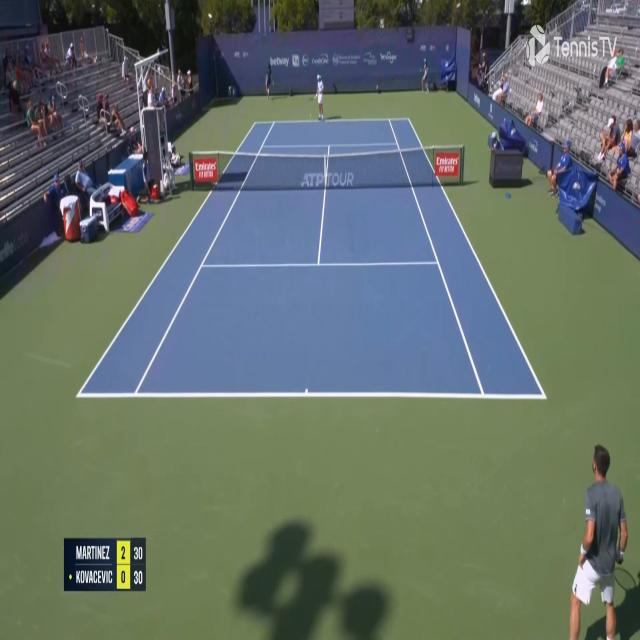tennis-player: (567, 439, 640, 640), (314, 74, 325, 122)
